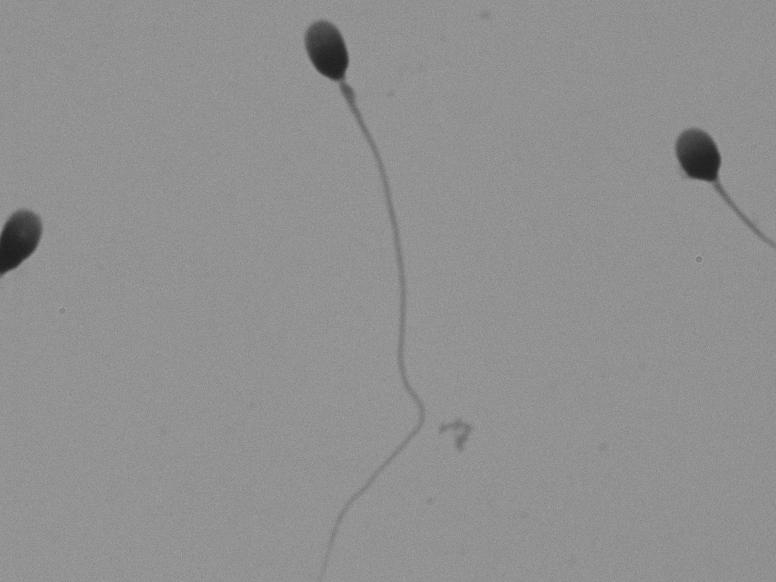Normal: (278, 5, 449, 561), (623, 72, 765, 314)
